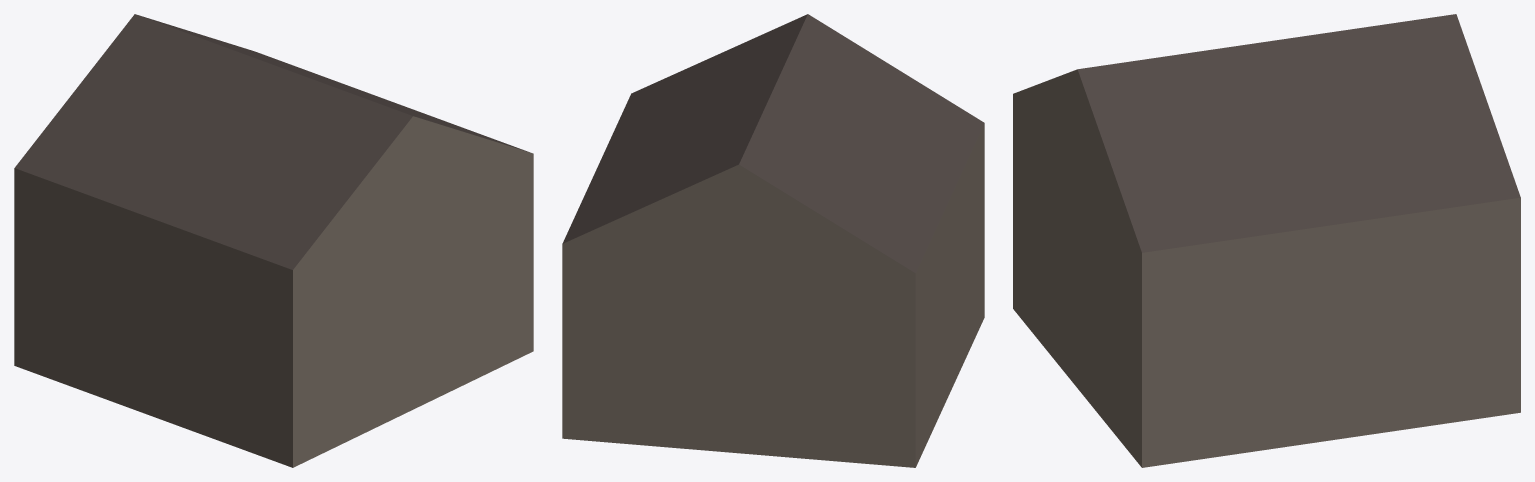
3 views of the same model, side by side, from view 1: azimuth 30°, elevation 25°; view 2: azimuth 150°, elevation 25°; view 3: azimuth 270°, elevation 25° (orthographic). The views are drawn at different scales.
Visible parts, largest first — view 1: HP-w408450763; view 2: HP-w408450763; view 3: HP-w408450763.
Boxes of the visible parts, box(x1,y1,x2,y2) form: HP-w408450763: box(14, 14, 533, 467); HP-w408450763: box(562, 14, 984, 467); HP-w408450763: box(1013, 14, 1520, 467).
Bounding box in the file's own units: 12.83 × 8.9 × 12.84.
